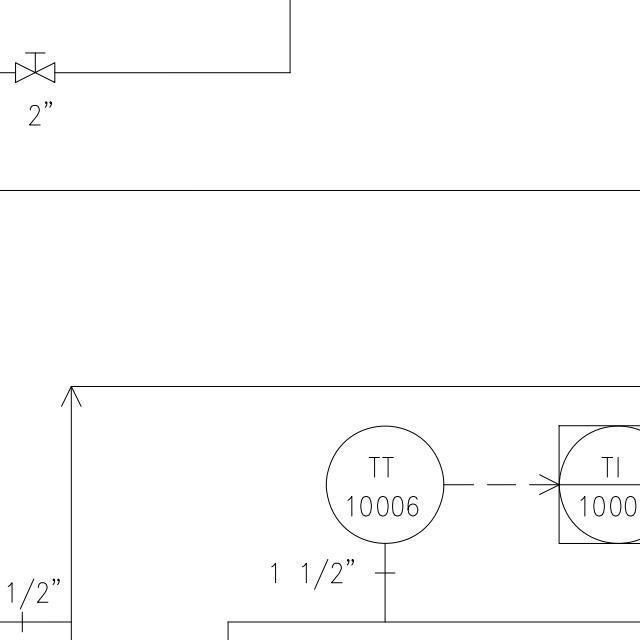HV: (10, 45, 58, 88)
